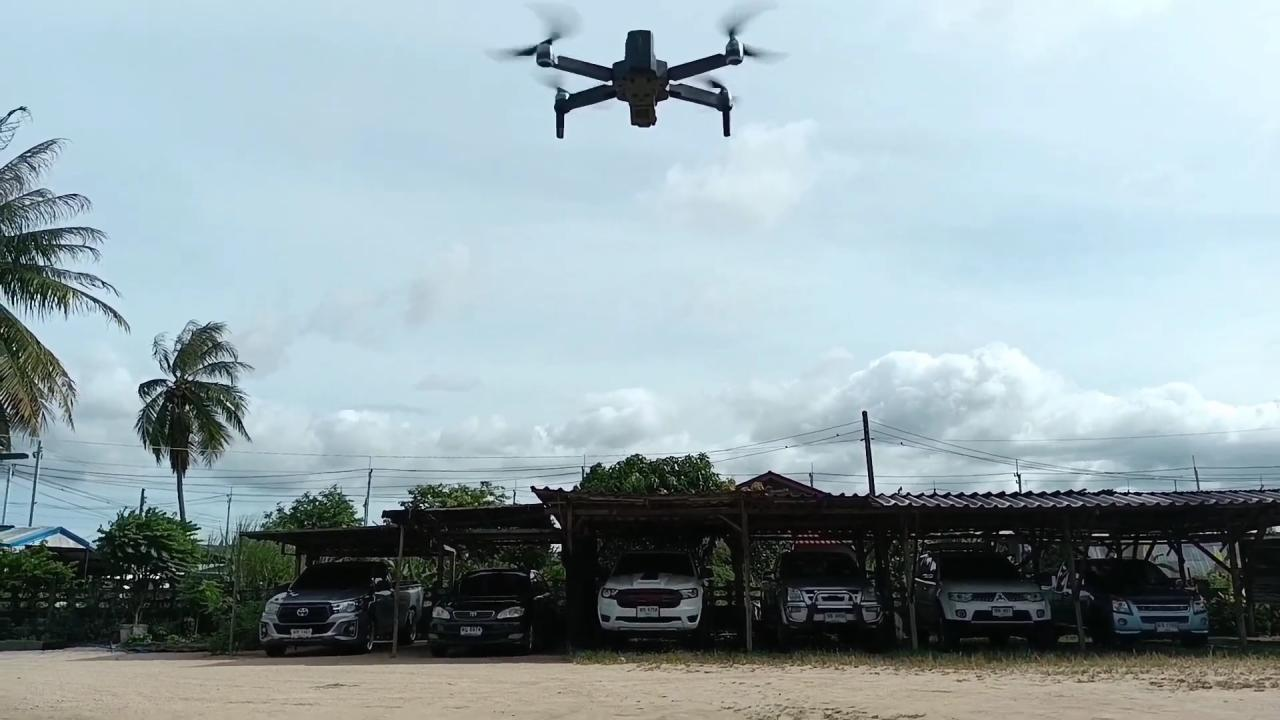Drone: (471, 0, 800, 148)
